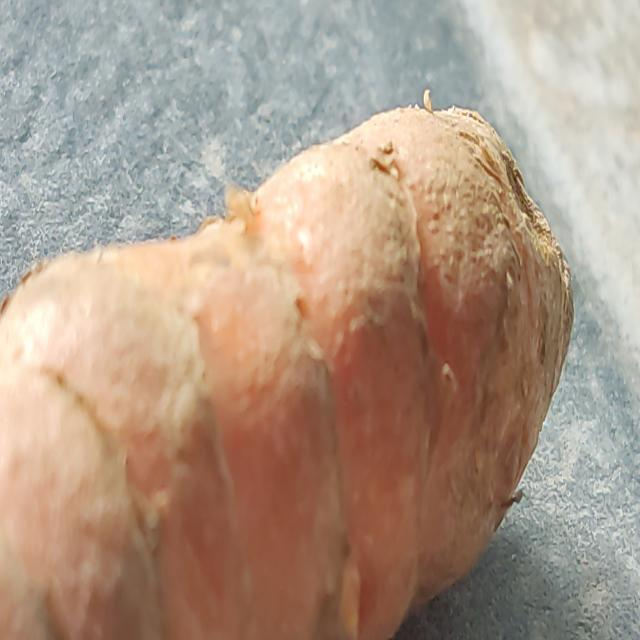ginger: (0, 102, 552, 640)
